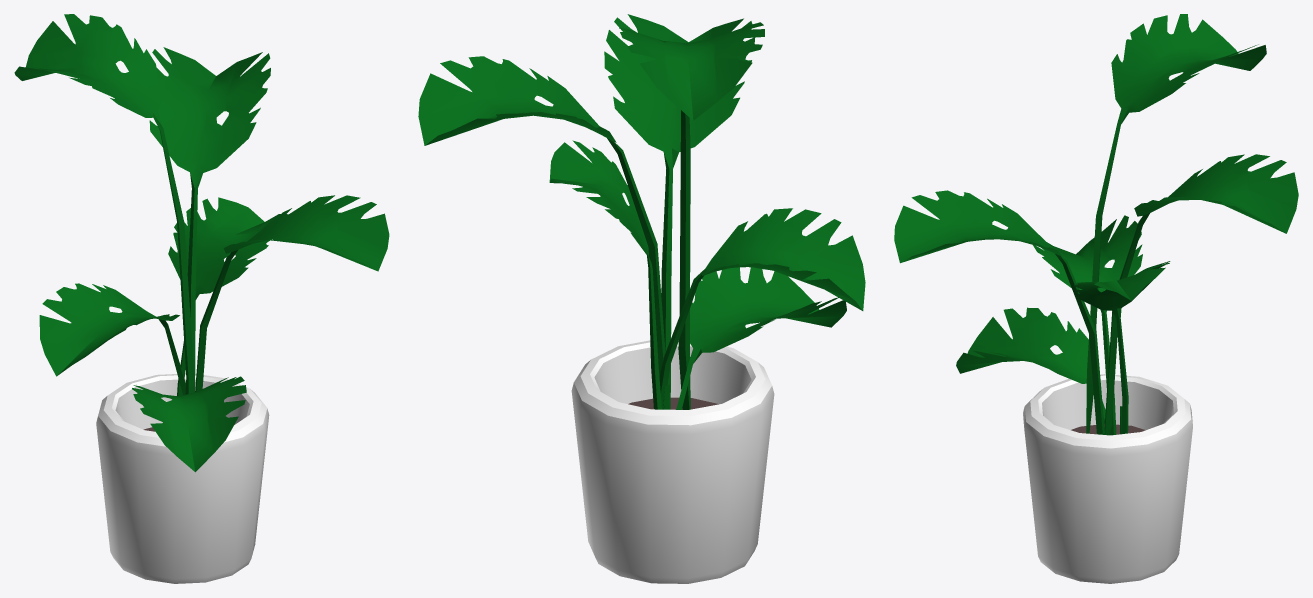
File: plant.fbx
3 renders of one model, left to right at view 1: azimuth 30°, elevation 25°; view 2: azimuth 150°, elevation 25°; view 3: azimuth 270°, elevation 25°, orthographic. The views are drawn at different scales.
Parts seen in each view (by area): view 1: Cylinder_003_1, Cylinder_003_0; view 2: Cylinder_003_1, Cylinder_003_0; view 3: Cylinder_003_1, Cylinder_003_0.
Boxes of the visible parts, box(x1,y1,x2,y2) form: Cylinder_003_1: box(14, 14, 389, 472); Cylinder_003_0: box(96, 373, 269, 583); Cylinder_003_1: box(418, 14, 865, 409); Cylinder_003_0: box(571, 340, 774, 583); Cylinder_003_1: box(894, 14, 1298, 435); Cylinder_003_0: box(1023, 374, 1192, 583).
Size of the model in its own units: 94.37 by 154 by 114.
